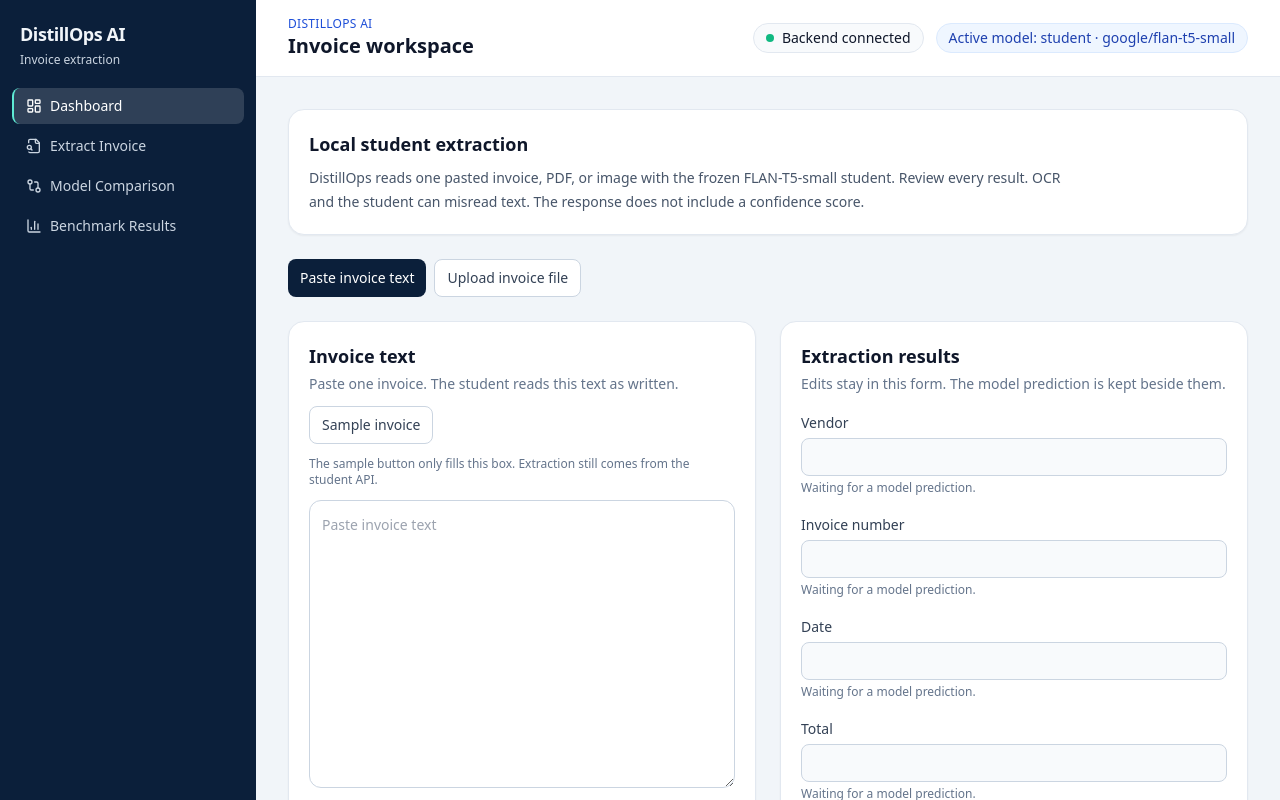
Test case: live teacher comparison › shows an unavailable message and does not post when teacher comparison is off
Click the button "Model Comparison". click: point(128, 186)
box: [12, 168, 244, 204]
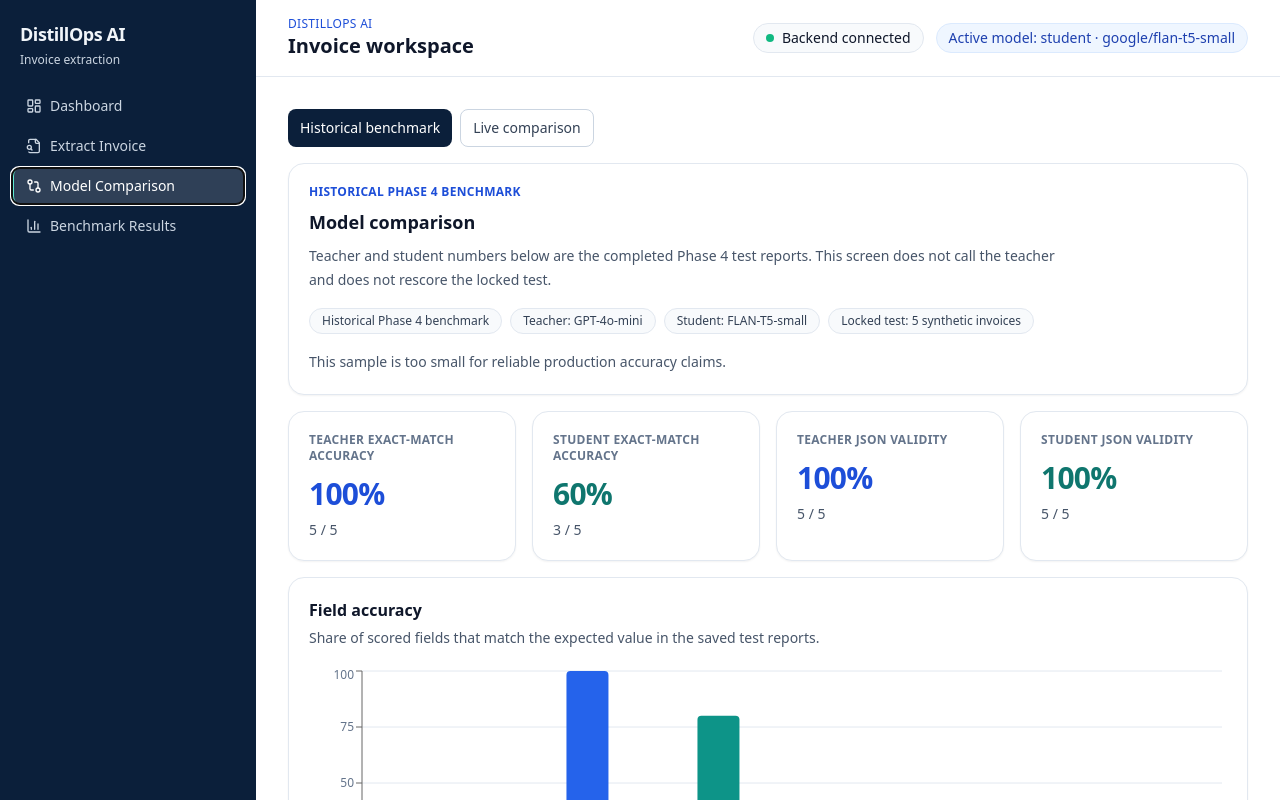
Check: the text "does not call the teacher and does not rescore" is shown, box [309, 246, 1055, 289]
Click the tab "Live comparison". click: point(527, 128)
box: [460, 109, 594, 147]
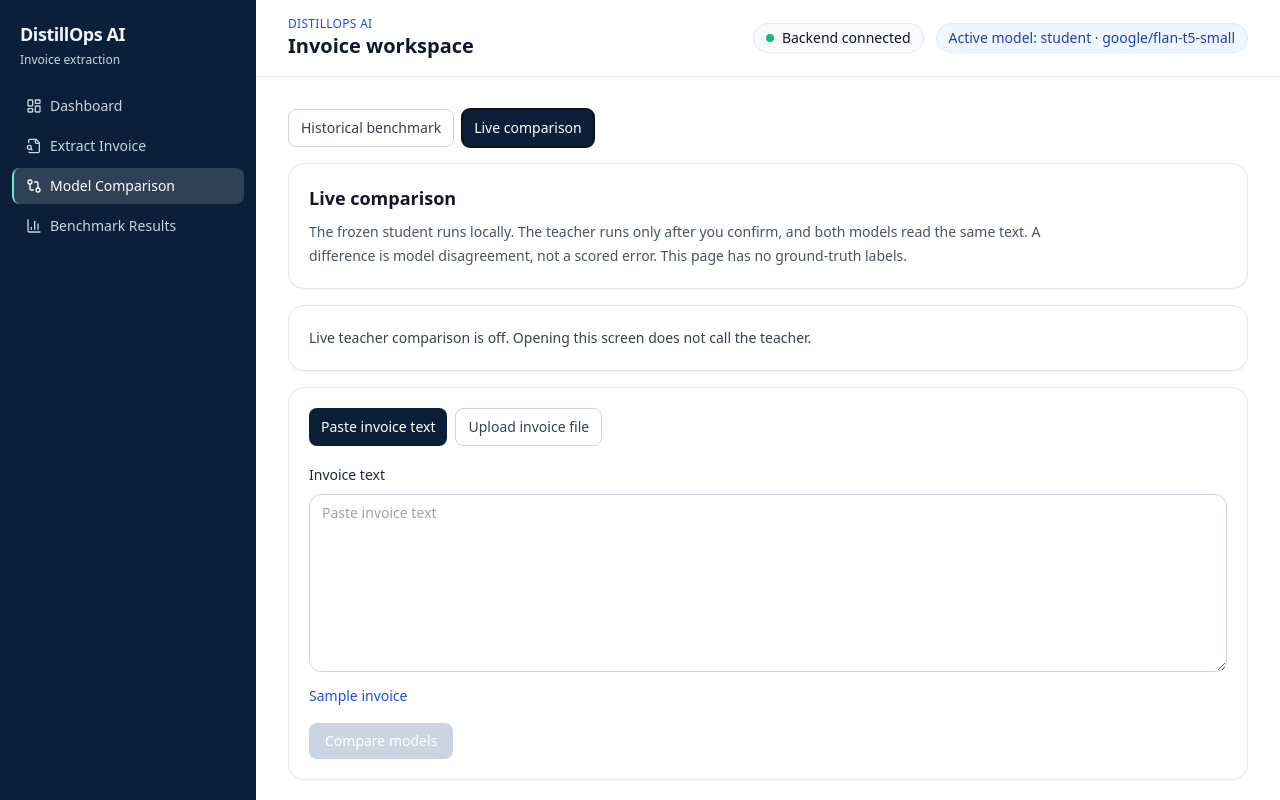
Check: the message shows "Live teacher comparison is off", box [309, 328, 811, 347]
Check: the button "Compare models" is disabled, box [309, 723, 453, 759]
